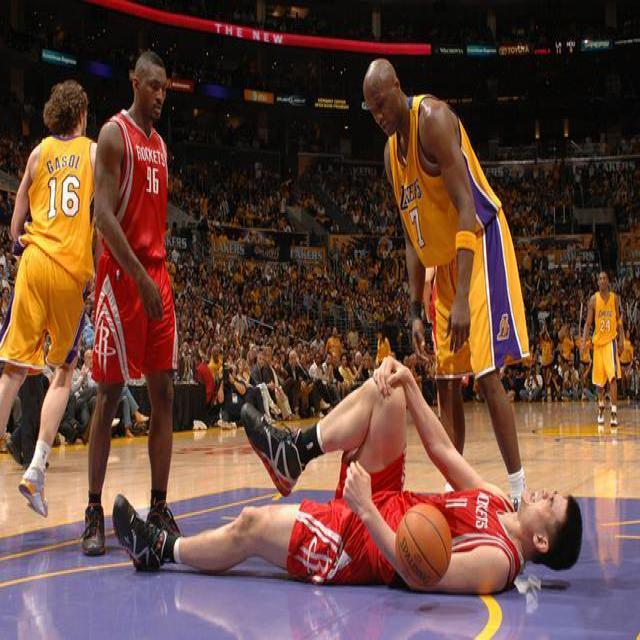10-: (1, 51, 639, 601)
down: (93, 342, 587, 592)
